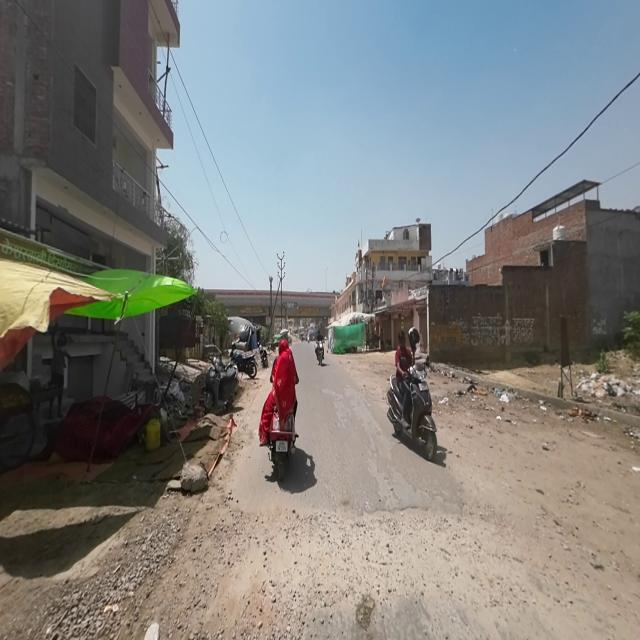Garbage: (578, 369, 631, 401), (566, 402, 598, 423), (494, 385, 521, 405), (458, 383, 489, 397), (622, 424, 639, 440), (440, 367, 458, 380)
